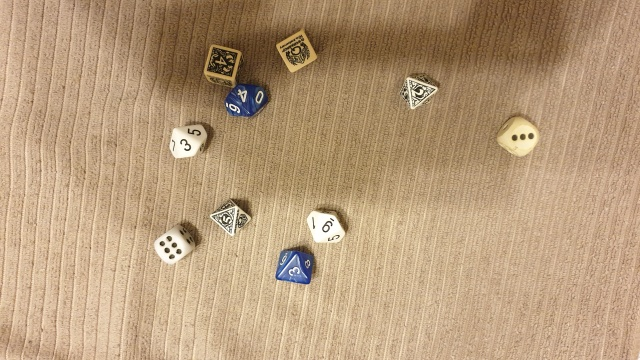d10-3: (164, 121, 211, 161), (275, 249, 311, 286)
d10-4: (218, 84, 275, 117)
d10-9: (303, 205, 349, 249)
d6-3: (493, 112, 545, 162)
d6-6: (145, 223, 193, 265)
d6p-4: (200, 43, 243, 86)
d6p-6: (271, 27, 323, 75)
d8p-2: (396, 67, 442, 115)
d8p-5: (206, 194, 252, 239)
